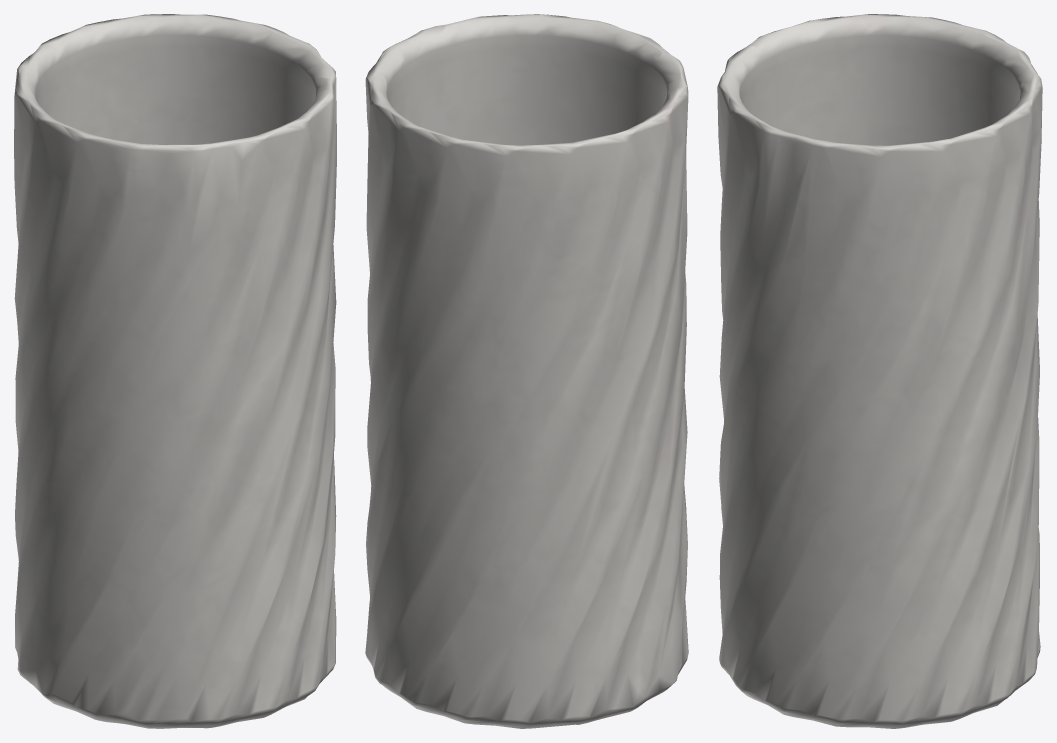
The model's file is decor_vase_a01.glb.
3 views of the same model, side by side, from view 1: azimuth 30°, elevation 25°; view 2: azimuth 150°, elevation 25°; view 3: azimuth 270°, elevation 25° (orthographic).
Parts seen in each view (by area): view 1: sm_decor_vase_a01_01; view 2: sm_decor_vase_a01_01; view 3: sm_decor_vase_a01_01.
Boxes of the visible parts, left/top/right/bottom form: sm_decor_vase_a01_01: left=14, top=14, right=336, bottom=728; sm_decor_vase_a01_01: left=365, top=14, right=688, bottom=728; sm_decor_vase_a01_01: left=717, top=14, right=1042, bottom=728.
Bounding box in the file's own units: 0.1254 × 0.2501 × 0.1254.
Materials: 1 (1 with a texture image).
